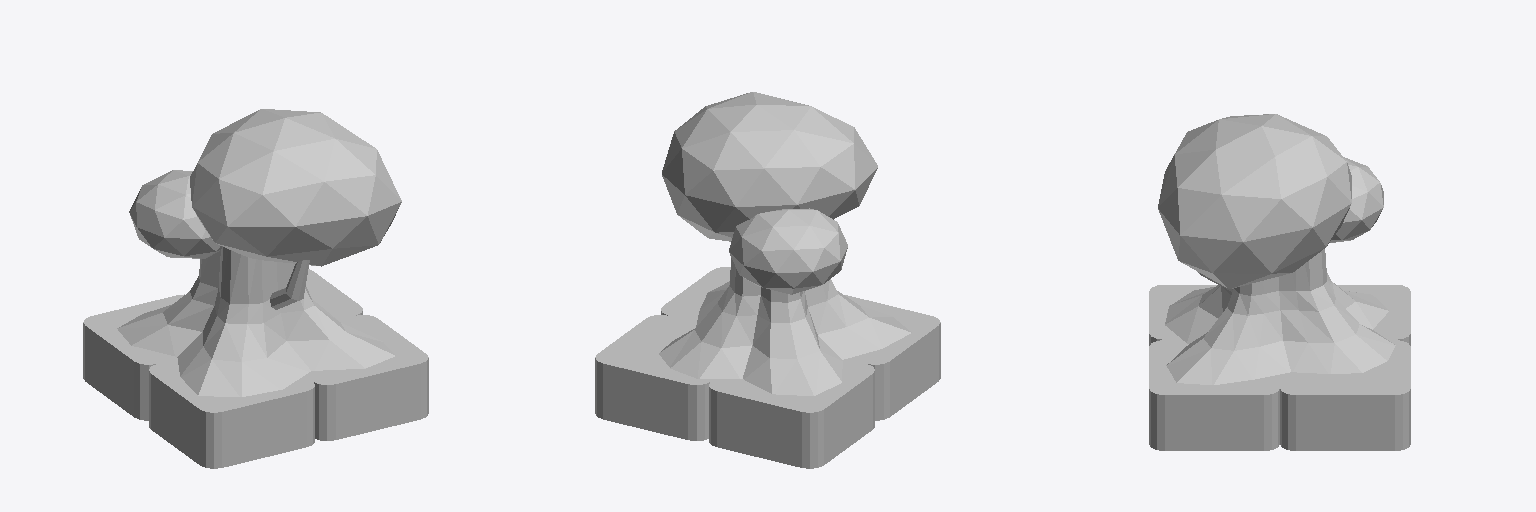
File: tile_oaktree.obj
The picture shows the model from 3 angles: view 1: azimuth 30°, elevation 25°; view 2: azimuth 150°, elevation 25°; view 3: azimuth 270°, elevation 25°; orthographic projection.
Visible parts, largest first — view 1: Cylinder.008, Cylinder.006, Cylinder.002, Cylinder.005, Cylinder.003, Cylinder.007, Cylinder.004, Cylinder.001; view 2: Cylinder.008, Cylinder.006, Cylinder.003, Cylinder.004, Cylinder.007, Cylinder.002, Cylinder.005; view 3: Cylinder.008, Cylinder.006, Cylinder.004, Cylinder.005, Cylinder.007, Cylinder.003, Cylinder.002.
Part boxes in pixels (bbox=[...]): Cylinder.008: bbox=[190, 109, 401, 266]; Cylinder.006: bbox=[117, 246, 395, 396]; Cylinder.002: bbox=[149, 359, 314, 468]; Cylinder.005: bbox=[305, 315, 428, 440]; Cylinder.003: bbox=[83, 294, 184, 420]; Cylinder.007: bbox=[129, 170, 221, 258]; Cylinder.004: bbox=[306, 269, 362, 319]; Cylinder.001: bbox=[270, 260, 309, 309]; Cylinder.008: bbox=[662, 92, 877, 241]; Cylinder.006: bbox=[659, 258, 911, 395]; Cylinder.003: bbox=[709, 359, 874, 468]; Cylinder.004: bbox=[595, 315, 713, 440]; Cylinder.007: bbox=[729, 208, 847, 294]; Cylinder.002: bbox=[845, 295, 940, 420]; Cylinder.005: bbox=[661, 267, 730, 321]; Cylinder.008: bbox=[1158, 114, 1351, 288]; Cylinder.006: bbox=[1165, 249, 1395, 384]; Cylinder.004: bbox=[1280, 340, 1410, 450]; Cylinder.005: bbox=[1149, 340, 1279, 450]; Cylinder.007: bbox=[1330, 157, 1383, 242]; Cylinder.003: bbox=[1337, 285, 1410, 345]; Cylinder.002: bbox=[1149, 285, 1216, 345].
Bounding box in the file's own units: 4 × 4.72 × 4.